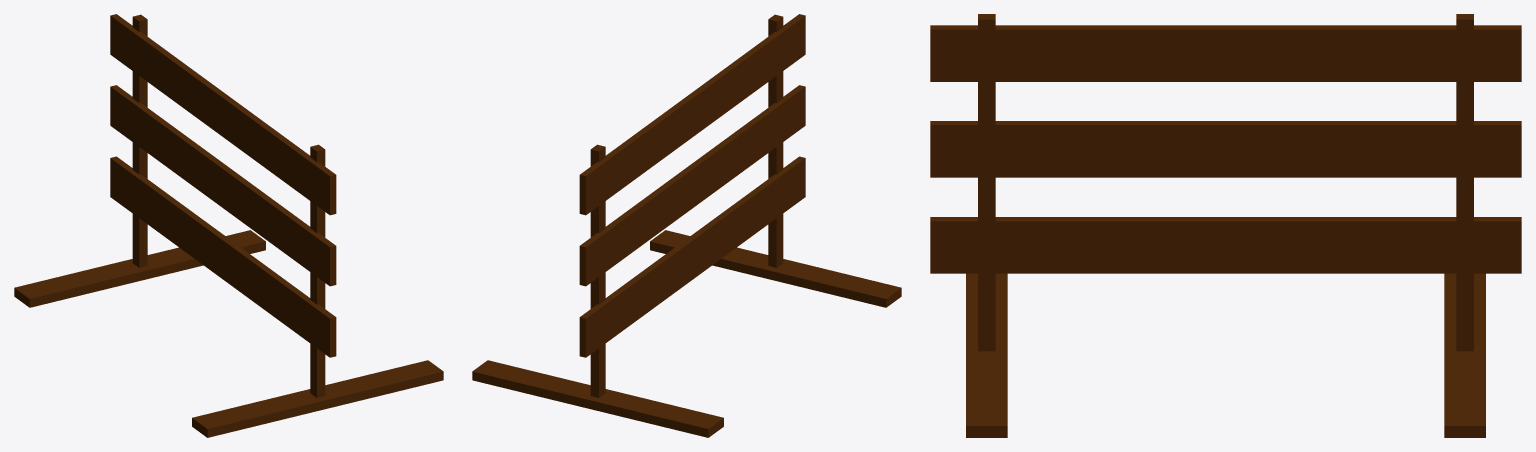
Rendered from WoodenBlock.fbx.
The picture shows the model from 3 angles, left to right: view 1: azimuth 30°, elevation 25°; view 2: azimuth 150°, elevation 25°; view 3: azimuth 270°, elevation 25°; orthographic projection. The views are drawn at different scales.
Visible parts, largest first — view 1: RoadBlock_B; view 2: RoadBlock_B; view 3: RoadBlock_B.
Part boxes in pixels (x1,y1,x2,y2): RoadBlock_B: [14, 14, 443, 437]; RoadBlock_B: [472, 14, 901, 437]; RoadBlock_B: [930, 14, 1521, 437].
Size of the model in its own units: 107 by 110 by 172.
